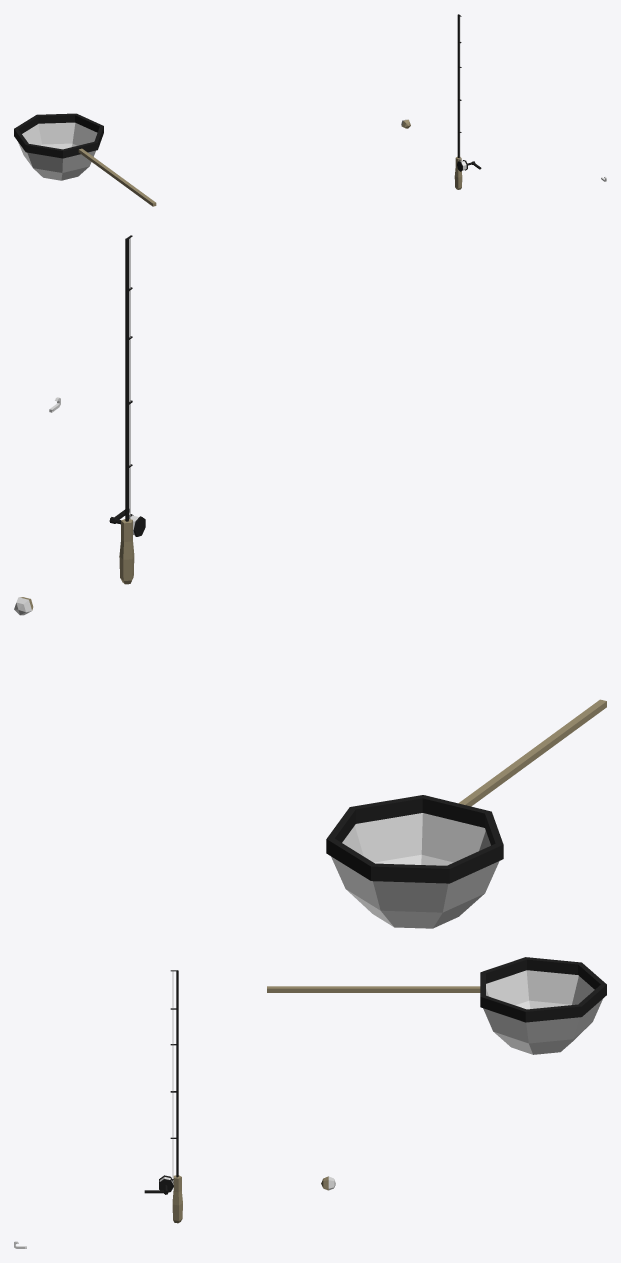
The model's file is Fishing.fbx.
3 renders of one model, top to bottom at view 1: azimuth 30°, elevation 25°; view 2: azimuth 150°, elevation 25°; view 3: azimuth 270°, elevation 25°, orthographic. The views are drawn at different scales.
Parts seen in each view (by area): view 1: Net, Fishing Rod; view 2: Net, Fishing Rod; view 3: Net, Fishing Rod.
Boxes of the visible parts, x1,y1,x2,y2 form: Net: (14,113,156,206); Fishing Rod: (454,14,462,189); Net: (326,699,606,928); Fishing Rod: (119,235,134,584); Net: (267,957,606,1054); Fishing Rod: (170,970,182,1223).
Bounding box in the file's own units: 444 × 200 × 392.
